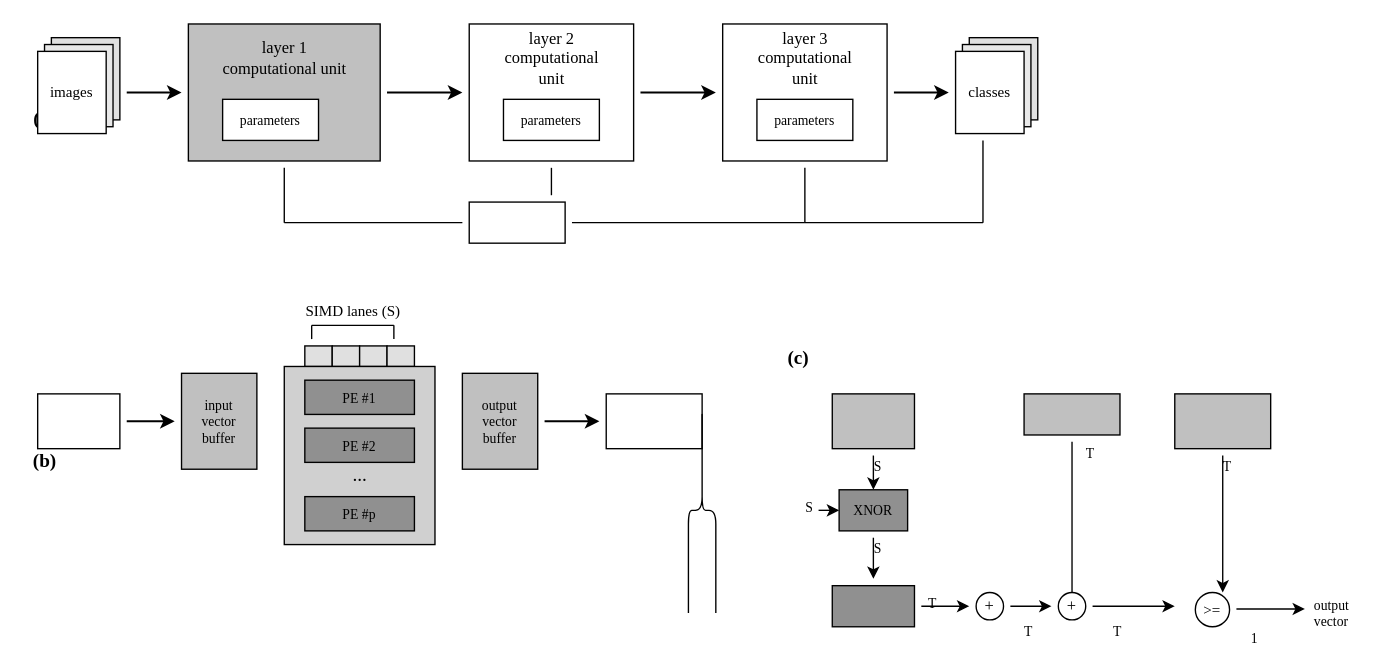
Some shapes in this 1396 by 671 pixel diagram are drawn without their labels. Here are the shapes that lost their labels. From the top down, the box of each, then its label:
(468, 201, 565, 243): memory
(36, 393, 120, 449): input image stream
(605, 393, 702, 449): output image stream
(831, 393, 914, 449): weight memory
(1023, 393, 1120, 435): accumulator
(1173, 393, 1271, 449): Threshold memory
(831, 584, 914, 627): popcount
